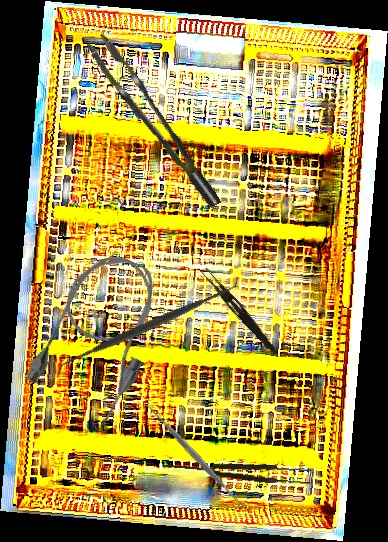Cannula: (19, 240, 182, 431)
Dressing Forceps: (197, 266, 283, 357)
Spatula Surgical: (47, 274, 247, 380), (140, 397, 252, 515)
Tissue Forceps: (85, 22, 222, 223), (161, 455, 313, 487)
